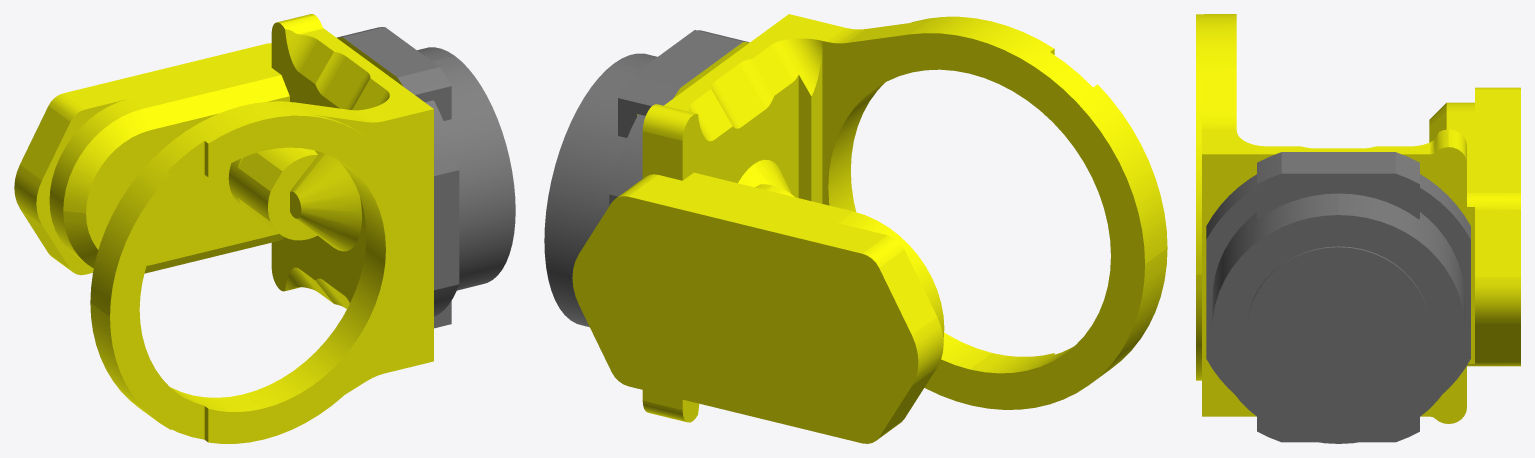
The picture shows the model from 3 angles, left to right: view 1: azimuth 30°, elevation 25°; view 2: azimuth 150°, elevation 25°; view 3: azimuth 270°, elevation 25°; orthographic projection. The views are drawn at different scales.
Visible parts, largest first — view 1: Mesh_0; view 2: Mesh_0; view 3: Mesh_0.
Boxes of the visible parts, x1,y1,x2,y2 form: Mesh_0: [14, 14, 515, 443]; Mesh_0: [544, 14, 1167, 443]; Mesh_0: [1196, 14, 1520, 443].
Size of the model in its own units: 0.2445 by 0.1595 by 0.18.
